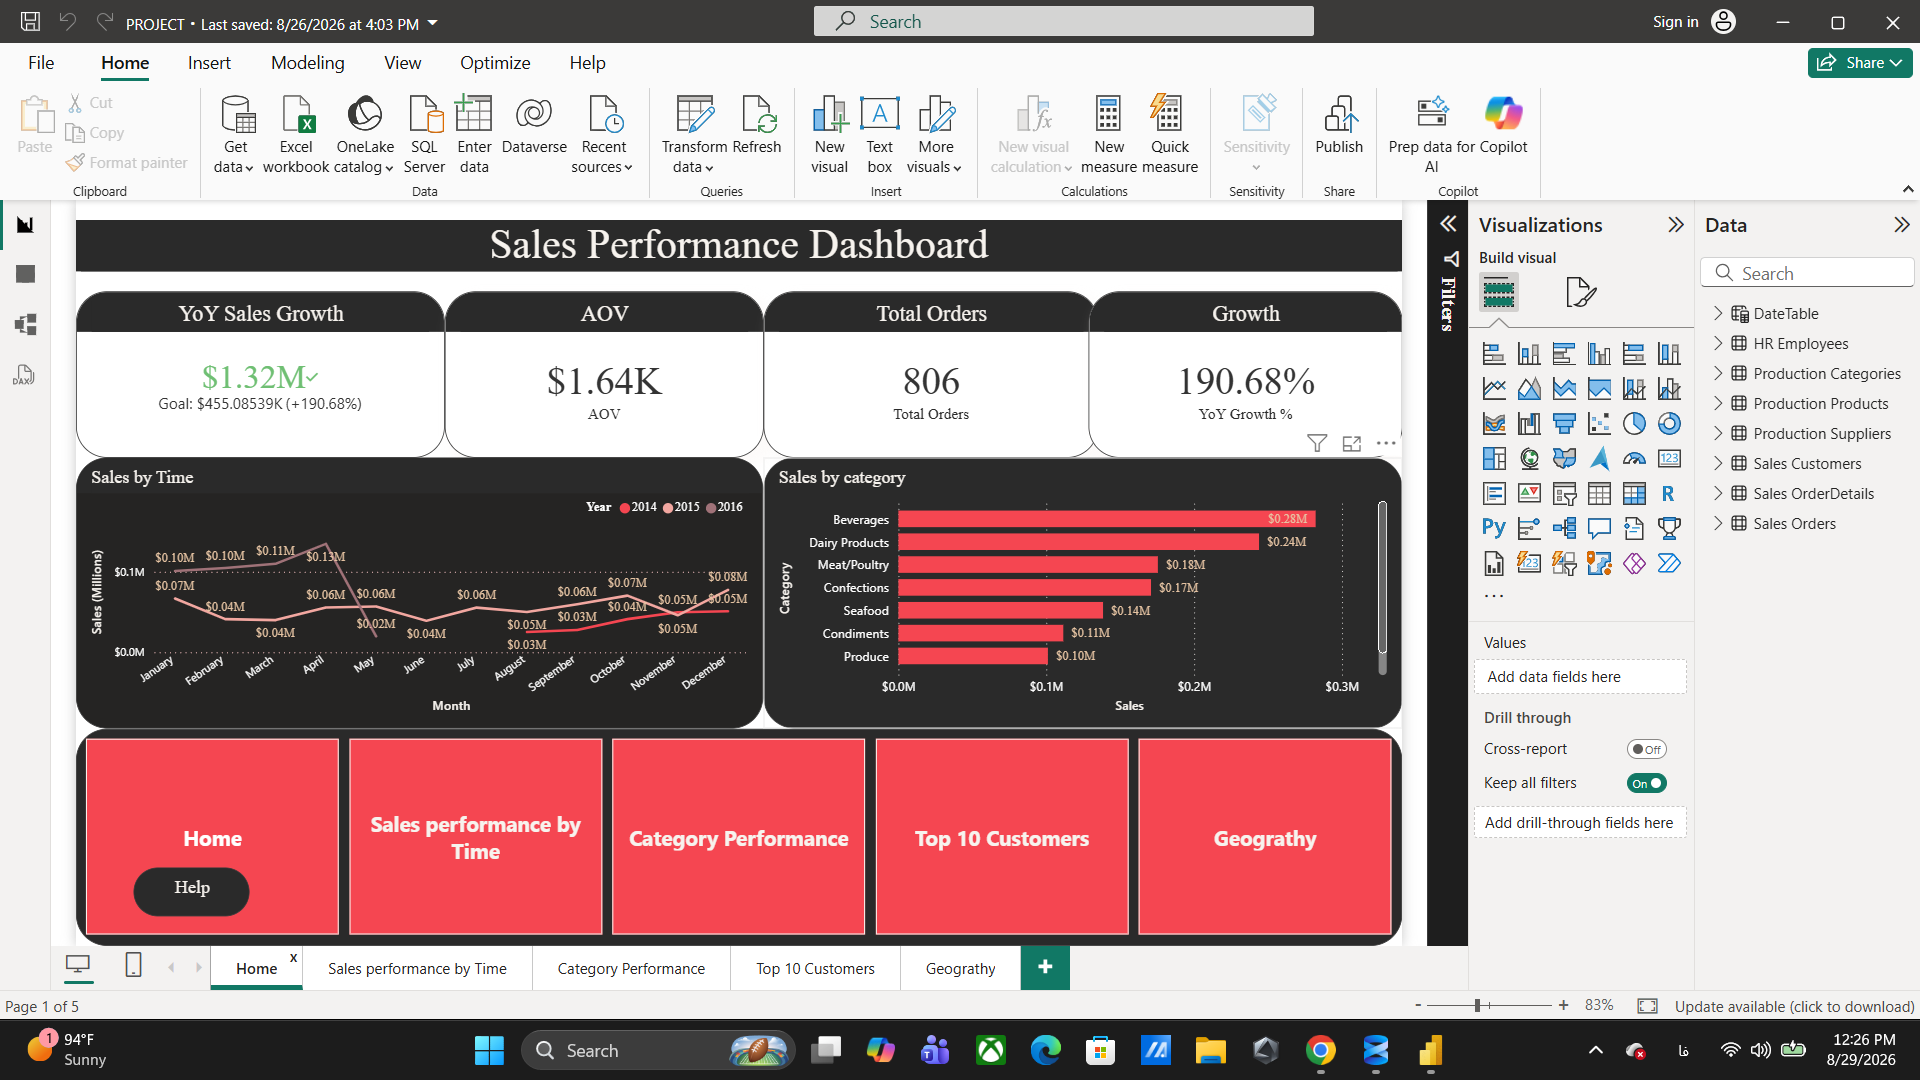

This screenshot's page, from the dashboard's own definition file:
{"tool":"powerbi","page":{"name":"Home","canvas":[1280,720],"ordinal":0},"visuals":[{"type":"pageNavigator","box":[0,510.3,1280,209.9],"z":0},{"type":"actionButton","title":"Help","box":[55.5,644.2,112.2,47.1],"z":1000},{"type":"textbox","title":"Sales Performance Dashboard","box":[0,19.3,1280,50.7],"z":2000},{"type":"kpi","title":"YoY Sales Growth","fields":{"Indicator":["Sum(Sales OrderDetails.totalsales)"],"Goal":["Sales OrderDetails.Sales PY"],"TrendLine":["DateTable.Date"]},"box":[0,88.1,355.9,160.5],"z":2001},{"type":"card","title":"AOV","fields":{"Values":["Sales OrderDetails.AOV"]},"box":[355.9,88.1,307.6,160.5],"z":2002},{"type":"card","title":"Total Orders","fields":{"Values":["Sales Orders.Total Orders"]},"box":[663.5,88.1,323.3,160.5],"z":2003},{"type":"card","title":"Growth","fields":{"Values":["Sales OrderDetails.YoY Growth %"]},"box":[977.2,88.1,302.8,160.5],"z":2004},{"type":"lineChart","title":"Sales by Time","fields":{"Y":["Sum(Sales OrderDetails.totalsales)"],"Series":["Sales Orders.orderdate.Variation.Date Hierarchy.Year"],"Category":["Sales Orders.orderdate.Variation.Date Hierarchy.Month"]},"box":[0,248.5,663.5,261.8],"z":2005},{"type":"clusteredBarChart","title":" Sales by category","fields":{"Y":["Sum(Sales OrderDetails.totalsales)"],"Category":["Production Categories.categoryname"]},"box":[663.5,248.5,616.5,261.8],"z":2006}]}

Visuals, with their boxes on the page's 1280x720 design canvas (x1, y1, x2, y2). These are canvas units, not pixel positions in the 1920x1080 screenshot, which may show the page scaled, cropped or inside an application window:
pageNavigator: [0,510,1280,720]
"Help" actionButton: [56,644,168,691]
"Sales Performance Dashboard" textbox: [0,19,1280,70]
"YoY Sales Growth" kpi: [0,88,356,249]
"AOV" card: [356,88,664,249]
"Total Orders" card: [664,88,987,249]
"Growth" card: [977,88,1280,249]
"Sales by Time" lineChart: [0,248,664,510]
" Sales by category" clusteredBarChart: [664,248,1280,510]
